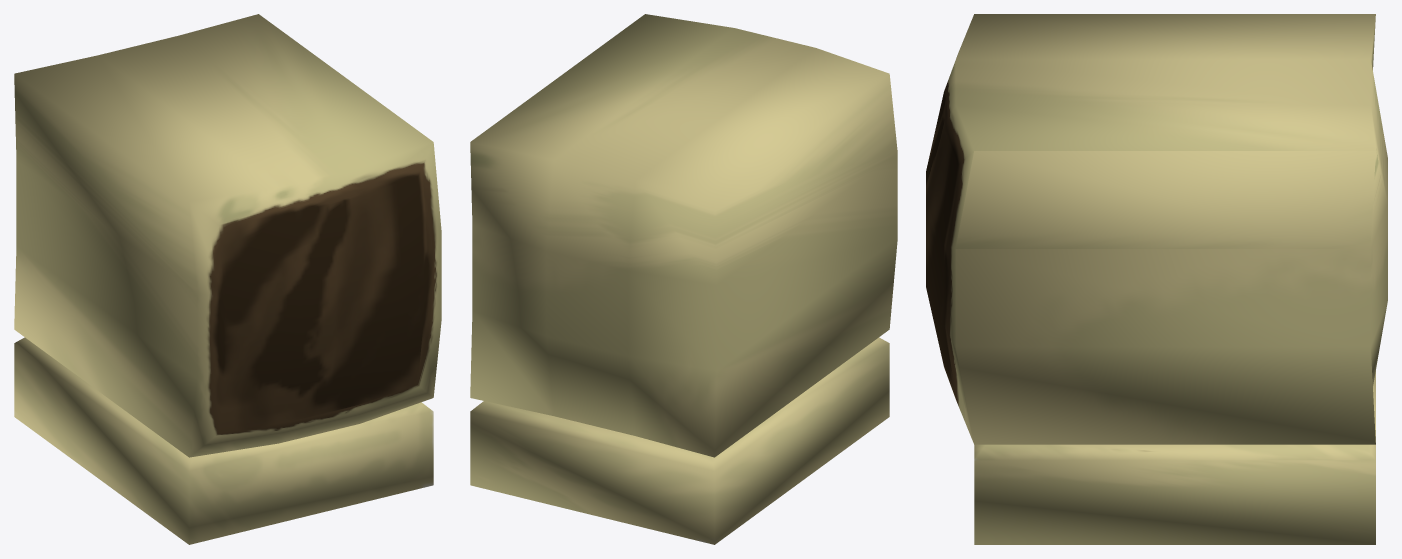
The model's file is TanTerminalMesh.glb.
3 renders of one model, left to right at view 1: azimuth 30°, elevation 25°; view 2: azimuth 150°, elevation 25°; view 3: azimuth 270°, elevation 25°, orthographic. The views are drawn at different scales.
Parts seen in each view (by area): view 1: terminal1; view 2: terminal1; view 3: terminal1.
Part boxes in pixels (x1=…): terminal1: x1=14, y1=14, x2=441, y2=544; terminal1: x1=470, y1=14, x2=897, y2=544; terminal1: x1=926, y1=14, x2=1387, y2=544.
Bounding box in the file's own units: 0.5 × 0.6708 × 0.7124.
1 material, 1 textured.
